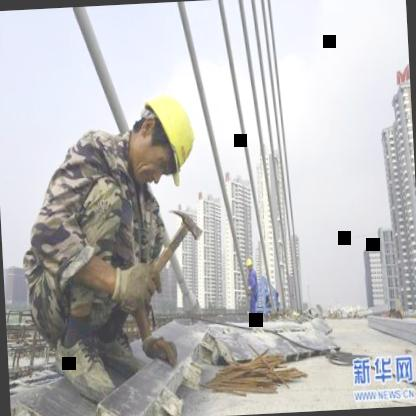helmet: (126, 90, 205, 188), (244, 256, 254, 272)
